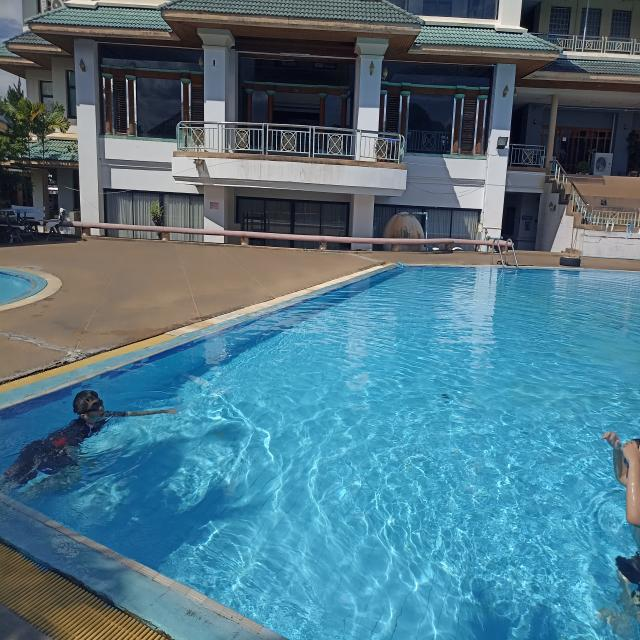Swimming: (1, 386, 182, 490)
